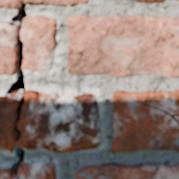brick: (67, 15, 178, 76), (112, 90, 178, 152), (75, 163, 178, 178), (135, 0, 163, 1)
broken_brick: (18, 89, 101, 152), (22, 14, 58, 73), (0, 161, 56, 178), (0, 95, 16, 152), (0, 20, 15, 76), (0, 0, 92, 9), (0, 167, 10, 173)
crack: (0, 2, 27, 176)
